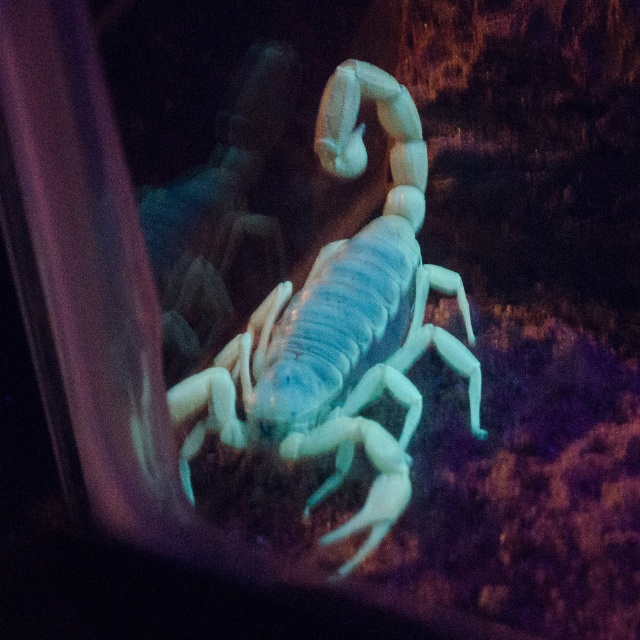Scorpion: (131, 58, 487, 584)
